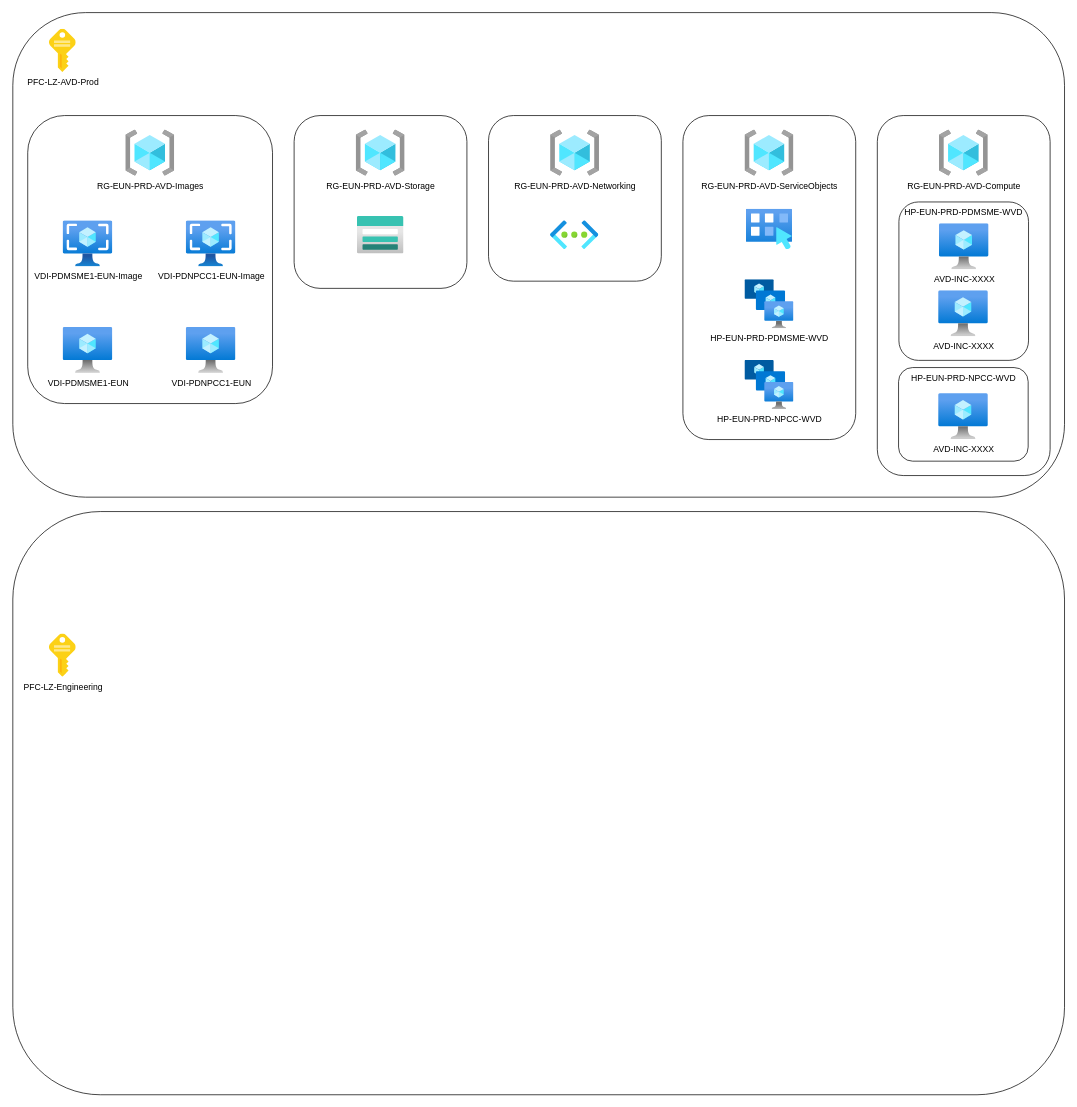
Image size: 1077x1107. Some labels were removed from this diagram. Here are the shapes that lost their labels. From the top down, the box of each, then its label:
(357, 216, 404, 253): saeunprdlzavd01fnc
(550, 220, 598, 249): VN-EUN-PRD-AVD
(746, 209, 792, 249): WS-EUN-PRD-COTS-01
